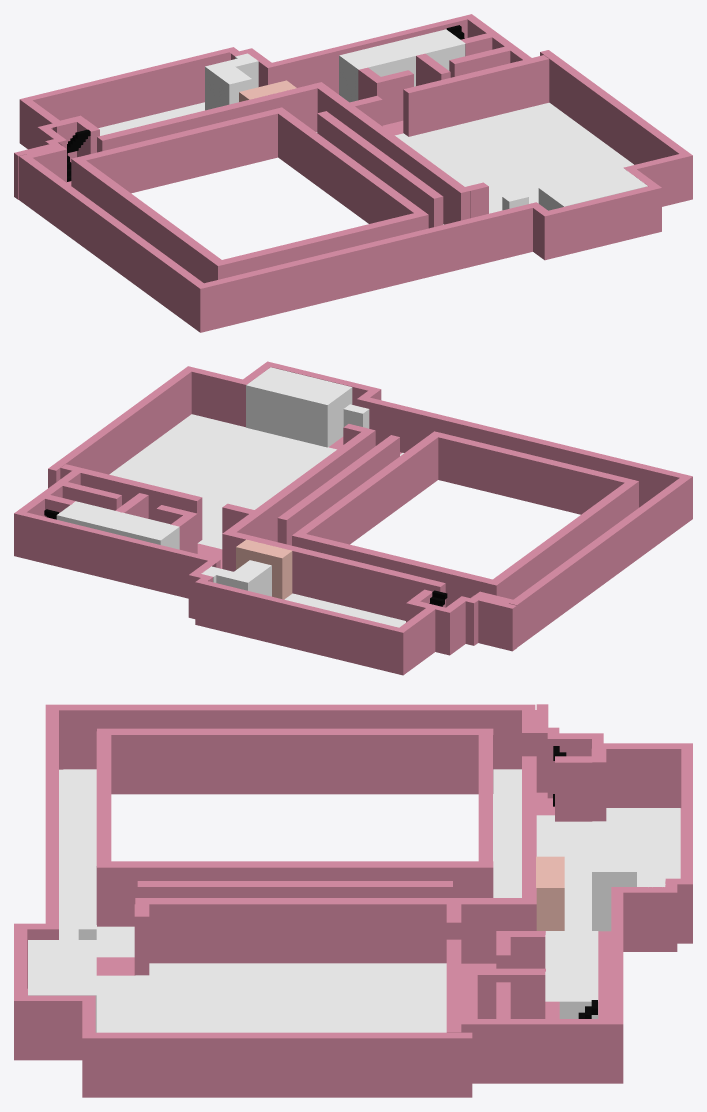
The picture shows the model from 3 angles, top to bottom: view 1: azimuth 30°, elevation 25°; view 2: azimuth 150°, elevation 25°; view 3: azimuth 270°, elevation 25°; orthographic projection. The views are drawn at different scales.
Parts seen in each view (by area): view 1: object, プール_g_2_1, 女子ロッカー室_g_2_1, 用具庫_g_2_2, 用具庫_g_2_1, 男子ロッカー室_g_2_1, フェンシング場_g_2_1; view 2: object, プール_g_2_1, 用具庫_g_2_2, 女子ロッカー室_g_2_1, 用具庫_g_2_1, 男子トイレ_g_2_1, 男子ロッカー室_g_2_1, フェンシング場_g_2_1, 女子トイレ_g_2_1; view 3: object, プール_g_2_1, ランニングギャラリー_g_2_1, フェンシング場_g_2_1, 用具庫_g_2_2, 用具庫_g_2_1, 女子ロッカー室_g_2_1, 男子ロッカー室_g_2_1, 男子トイレ_g_2_1, 女子トイレ_g_2_1, 観客席_g_2_1.
Boxes of the visible parts, <box> form: object: <box>14,14,692,332</box>; プール_g_2_1: <box>395,102,633,213</box>; 女子ロッカー室_g_2_1: <box>339,40,420,102</box>; 用具庫_g_2_2: <box>538,167,647,210</box>; 用具庫_g_2_1: <box>205,53,258,110</box>; 男子ロッカー室_g_2_1: <box>402,29,465,70</box>; フェンシング場_g_2_1: <box>98,102,204,135</box>; object: <box>14,361,692,675</box>; プール_g_2_1: <box>109,414,336,549</box>; 用具庫_g_2_2: <box>246,367,352,447</box>; 女子ロッカー室_g_2_1: <box>100,512,179,549</box>; 用具庫_g_2_1: <box>201,560,271,596</box>; 男子トイレ_g_2_1: <box>236,543,287,599</box>; 男子ロッカー室_g_2_1: <box>56,501,119,529</box>; フェンシング場_g_2_1: <box>284,593,405,627</box>; 女子トイレ_g_2_1: <box>241,539,292,596</box>; object: <box>14,704,692,1097</box>; プール_g_2_1: <box>96,963,446,1032</box>; ランニングギャラリー_g_2_1: <box>59,769,521,957</box>; フェンシング場_g_2_1: <box>536,808,680,930</box>; 用具庫_g_2_2: <box>28,940,96,1032</box>; 用具庫_g_2_1: <box>592,857,665,931</box>; 女子ロッカー室_g_2_1: <box>545,931,598,971</box>; 男子ロッカー室_g_2_1: <box>545,971,598,1018</box>; 男子トイレ_g_2_1: <box>550,856,564,930</box>; 女子トイレ_g_2_1: <box>536,856,550,930</box>; 観客席_g_2_1: <box>97,926,134,942</box>.
Size of the model in its own units: 1.98 by 0.1736 by 1.7.
